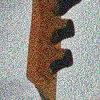traffic lights: (28, 0, 81, 96)
